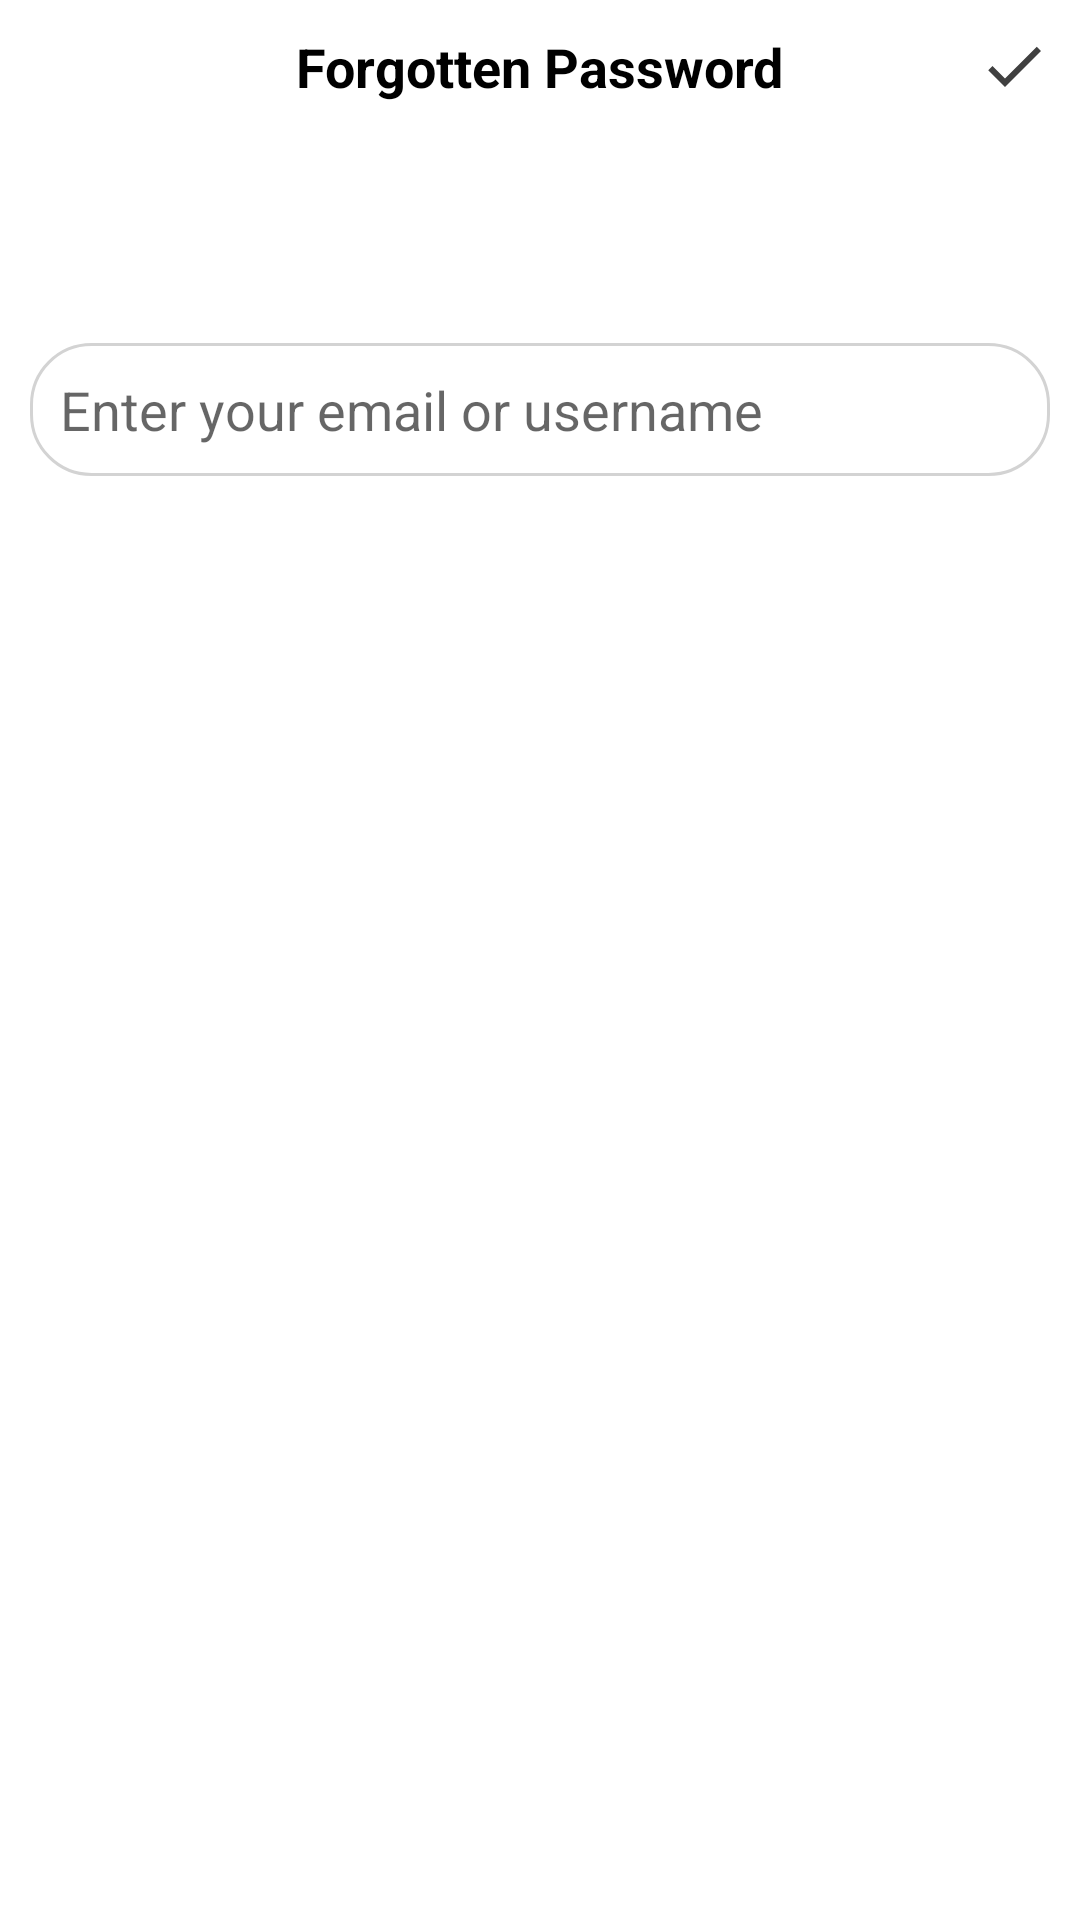

Where to tap for icons on this 1080*1920 app screen, as (x=x, y=y):
check: (x=1014, y=67)
